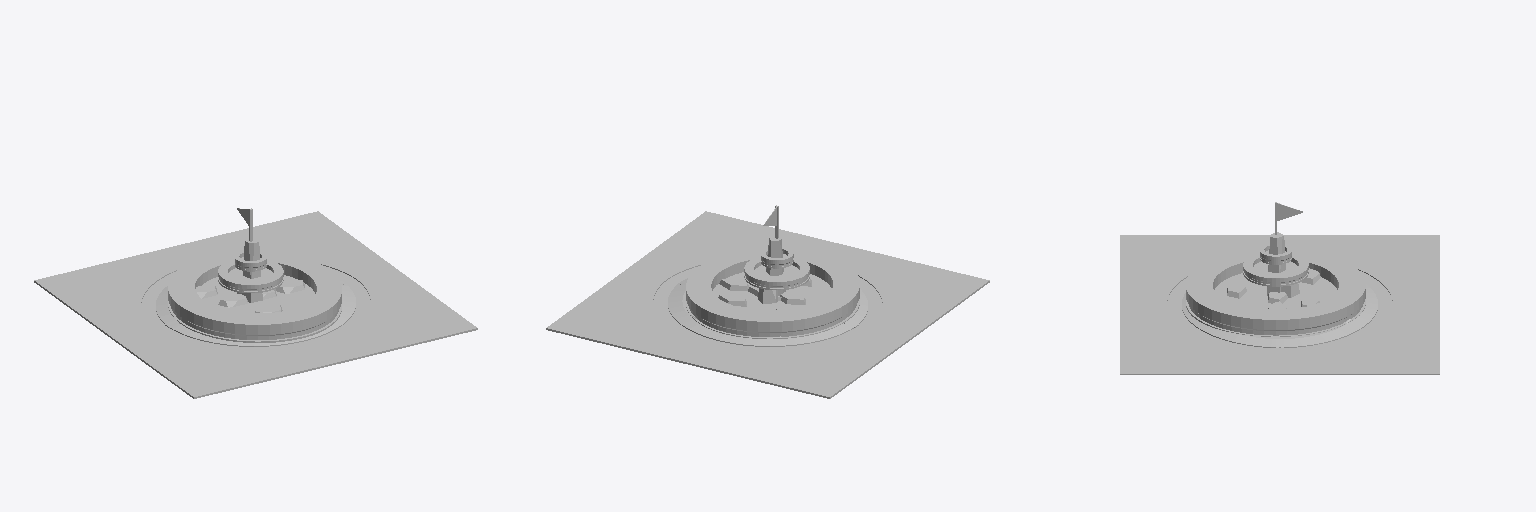
File: fantanita 1.obj
The picture shows the model from 3 angles: view 1: azimuth 30°, elevation 25°; view 2: azimuth 150°, elevation 25°; view 3: azimuth 270°, elevation 25°; orthographic projection.
Size of the model in its own units: 4 by 1.35 by 3.9.